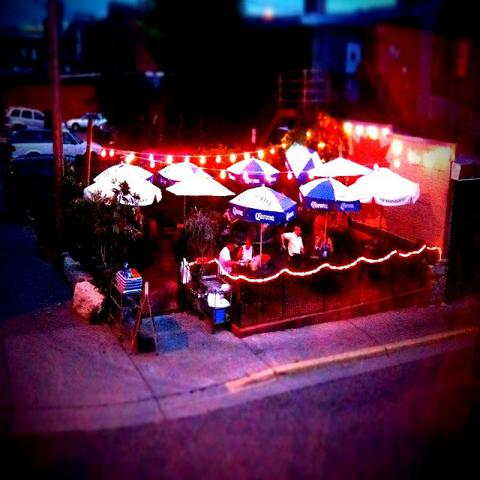car: (0, 152, 56, 224), (10, 128, 88, 161), (4, 106, 48, 138), (67, 113, 108, 132)
